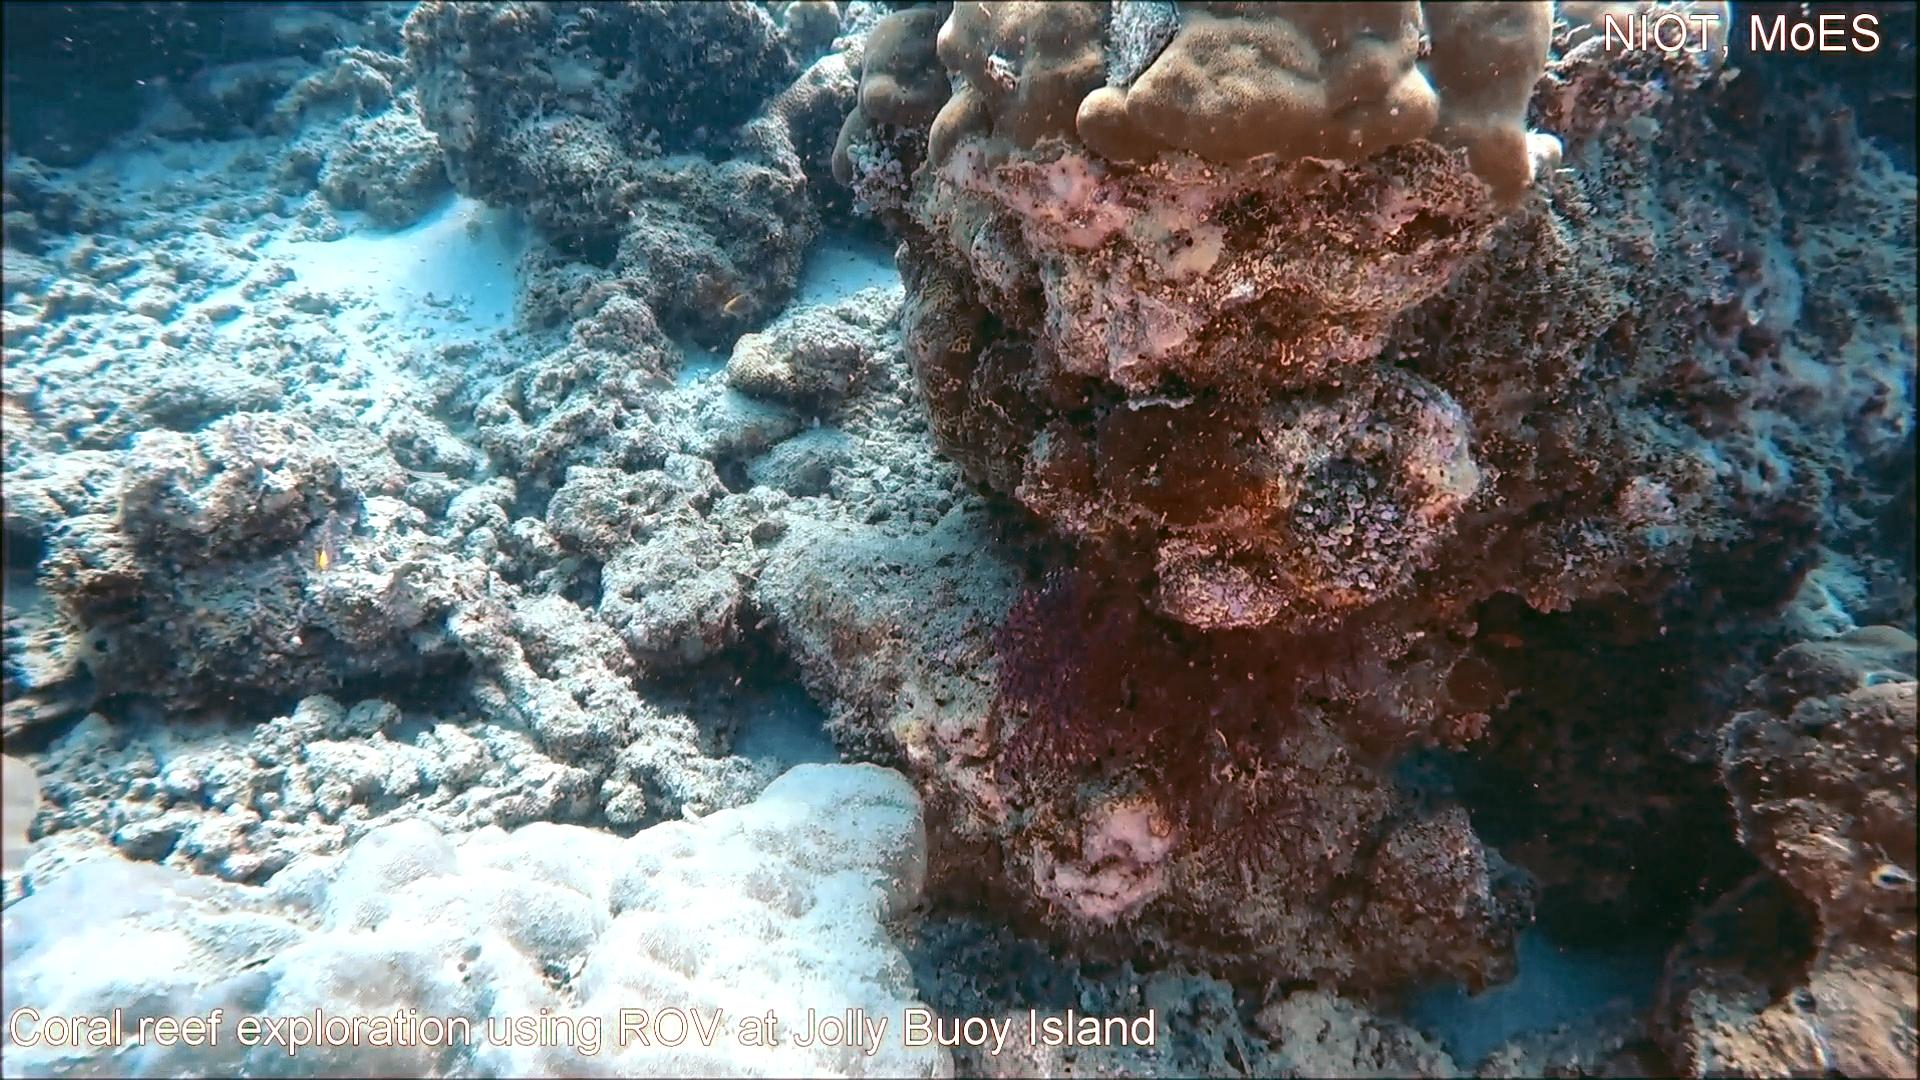Gorgonian-Purple Plexaura: (976, 534, 1373, 902)
Porites-Porites pukoensis: (237, 757, 960, 1080), (920, 0, 1561, 220)
